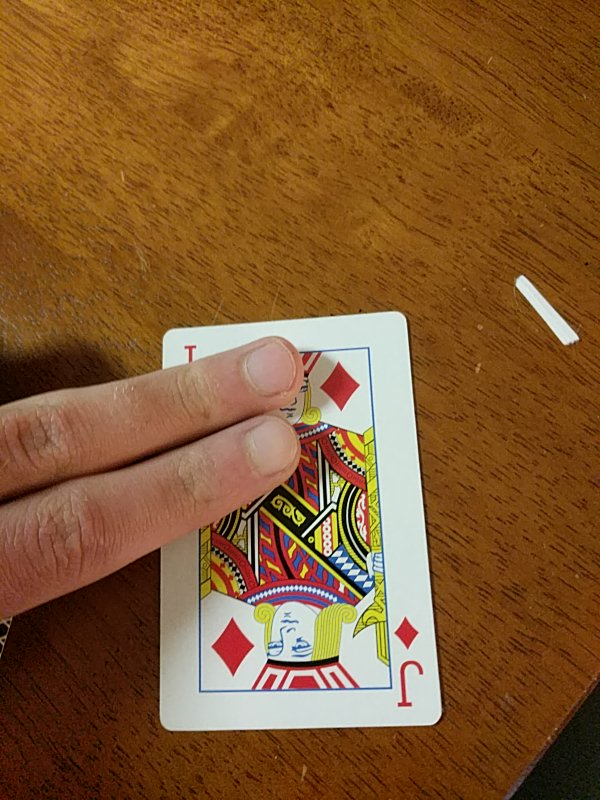Diamonds: (158, 312, 439, 730)
